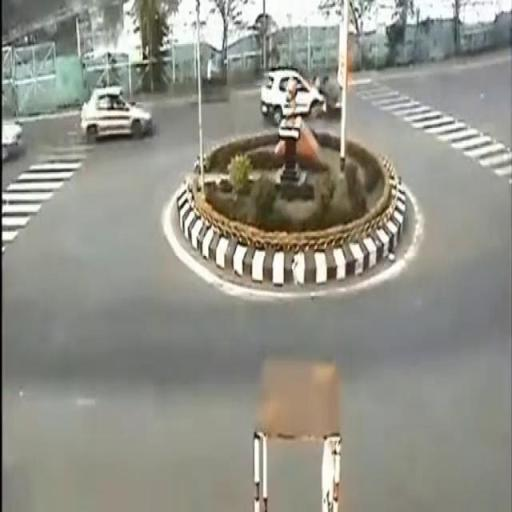小汽车: (84, 87, 154, 140)
小汽车撞自行车: (266, 71, 338, 120)
